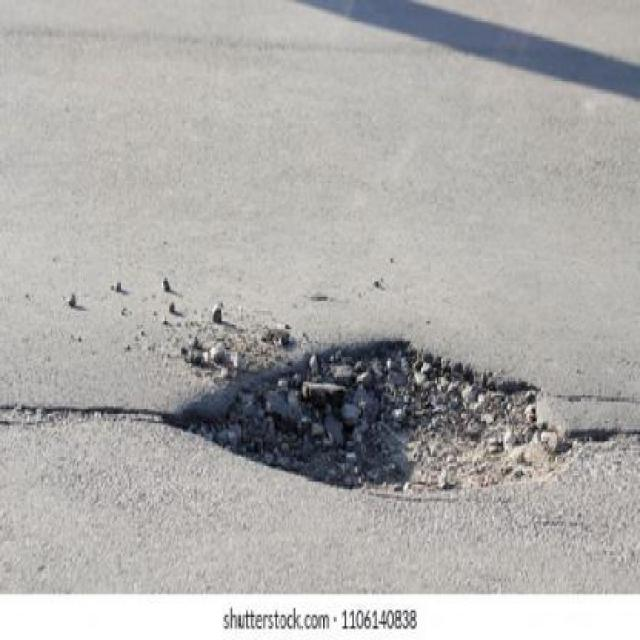Pothole: (165, 332, 566, 506)
